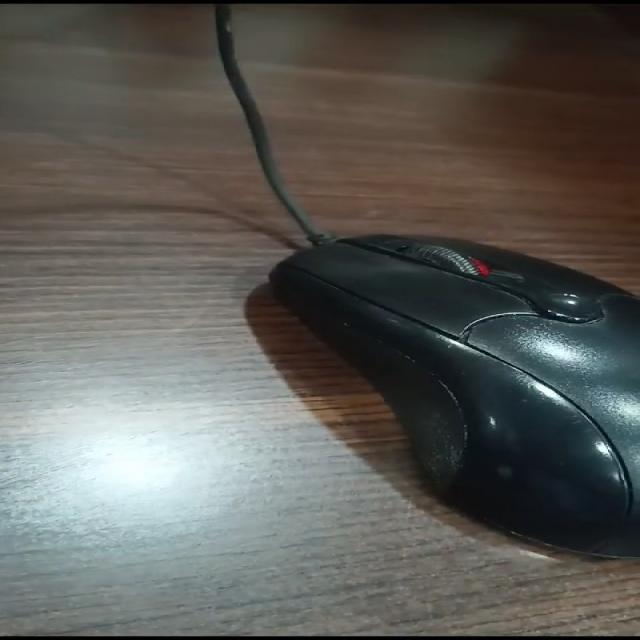mouse: (216, 178, 640, 585)
